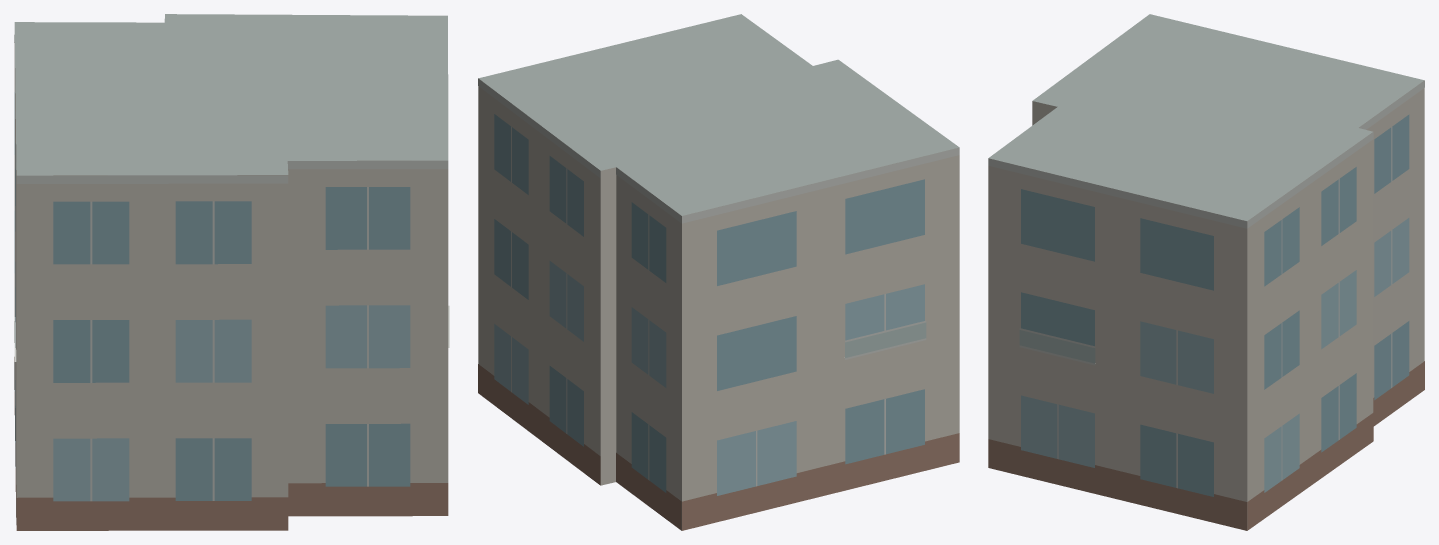
Rendered from survey-upis-32498173.glb.
The picture shows the model from 3 angles, left to right: view 1: azimuth 30°, elevation 25°; view 2: azimuth 150°, elevation 25°; view 3: azimuth 270°, elevation 25°; orthographic projection. The views are drawn at different scales.
Parts seen in each view (by area): view 1: survey-upis-32498173.tmp; view 2: survey-upis-32498173.tmp; view 3: survey-upis-32498173.tmp.
Part boxes in pixels (bbox=[...]): survey-upis-32498173.tmp: bbox=[14, 14, 449, 530]; survey-upis-32498173.tmp: bbox=[478, 14, 959, 530]; survey-upis-32498173.tmp: bbox=[988, 14, 1424, 530].
Bounding box in the file's own units: 14.51 × 10.1 × 12.91.
